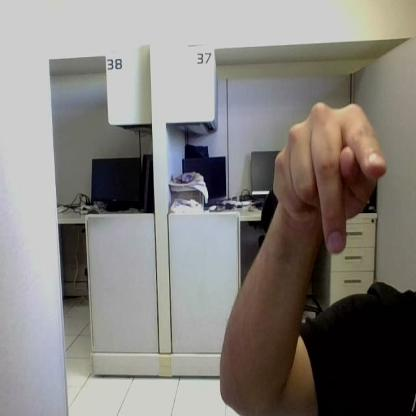P: (274, 103, 386, 254)
